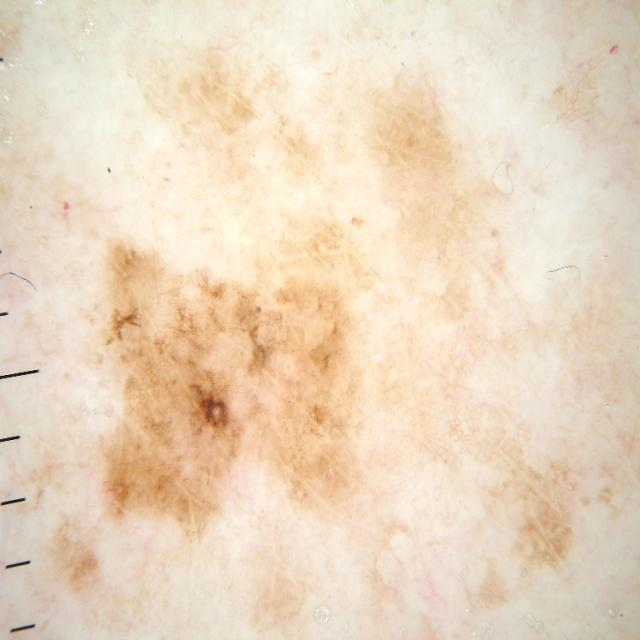Skin-Cancer Melanoma: (11, 31, 640, 640)
